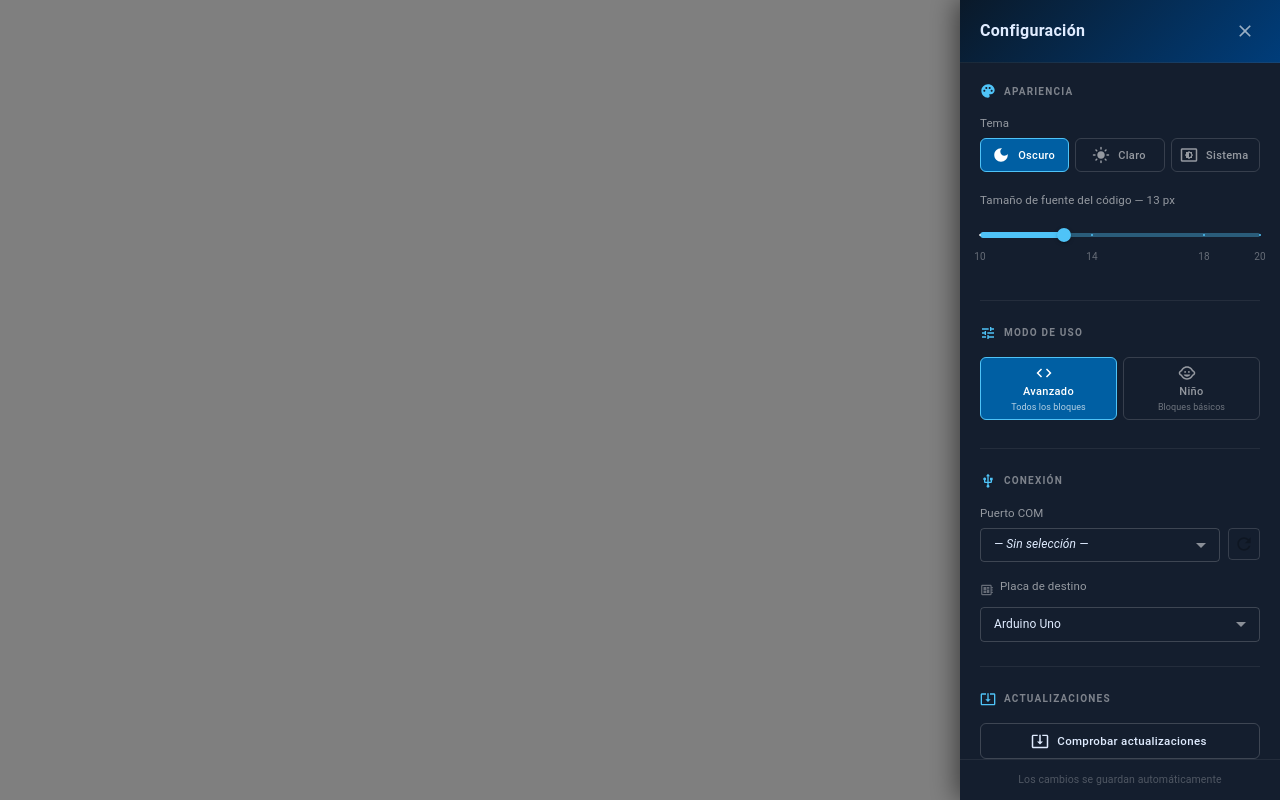
Test: SettingsDialog en modo escritorio › informa del modo desarrollo
The width and height of the screenshot is (1280, 800).
Click the button "Comprobar actualizaciones".
click(1120, 741)  # box [980,723,1260,759]
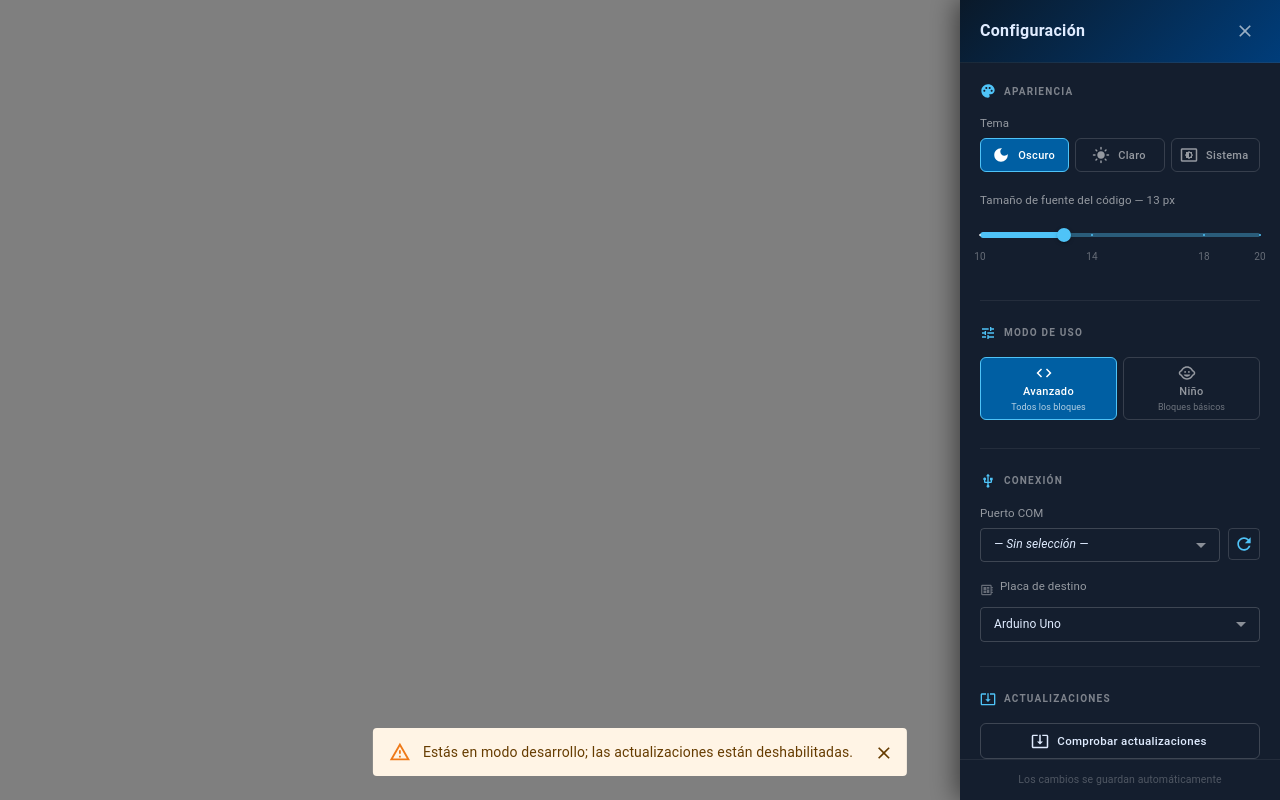
Result: the text "modo desarrollo" is shown at [423,744,853,760]
